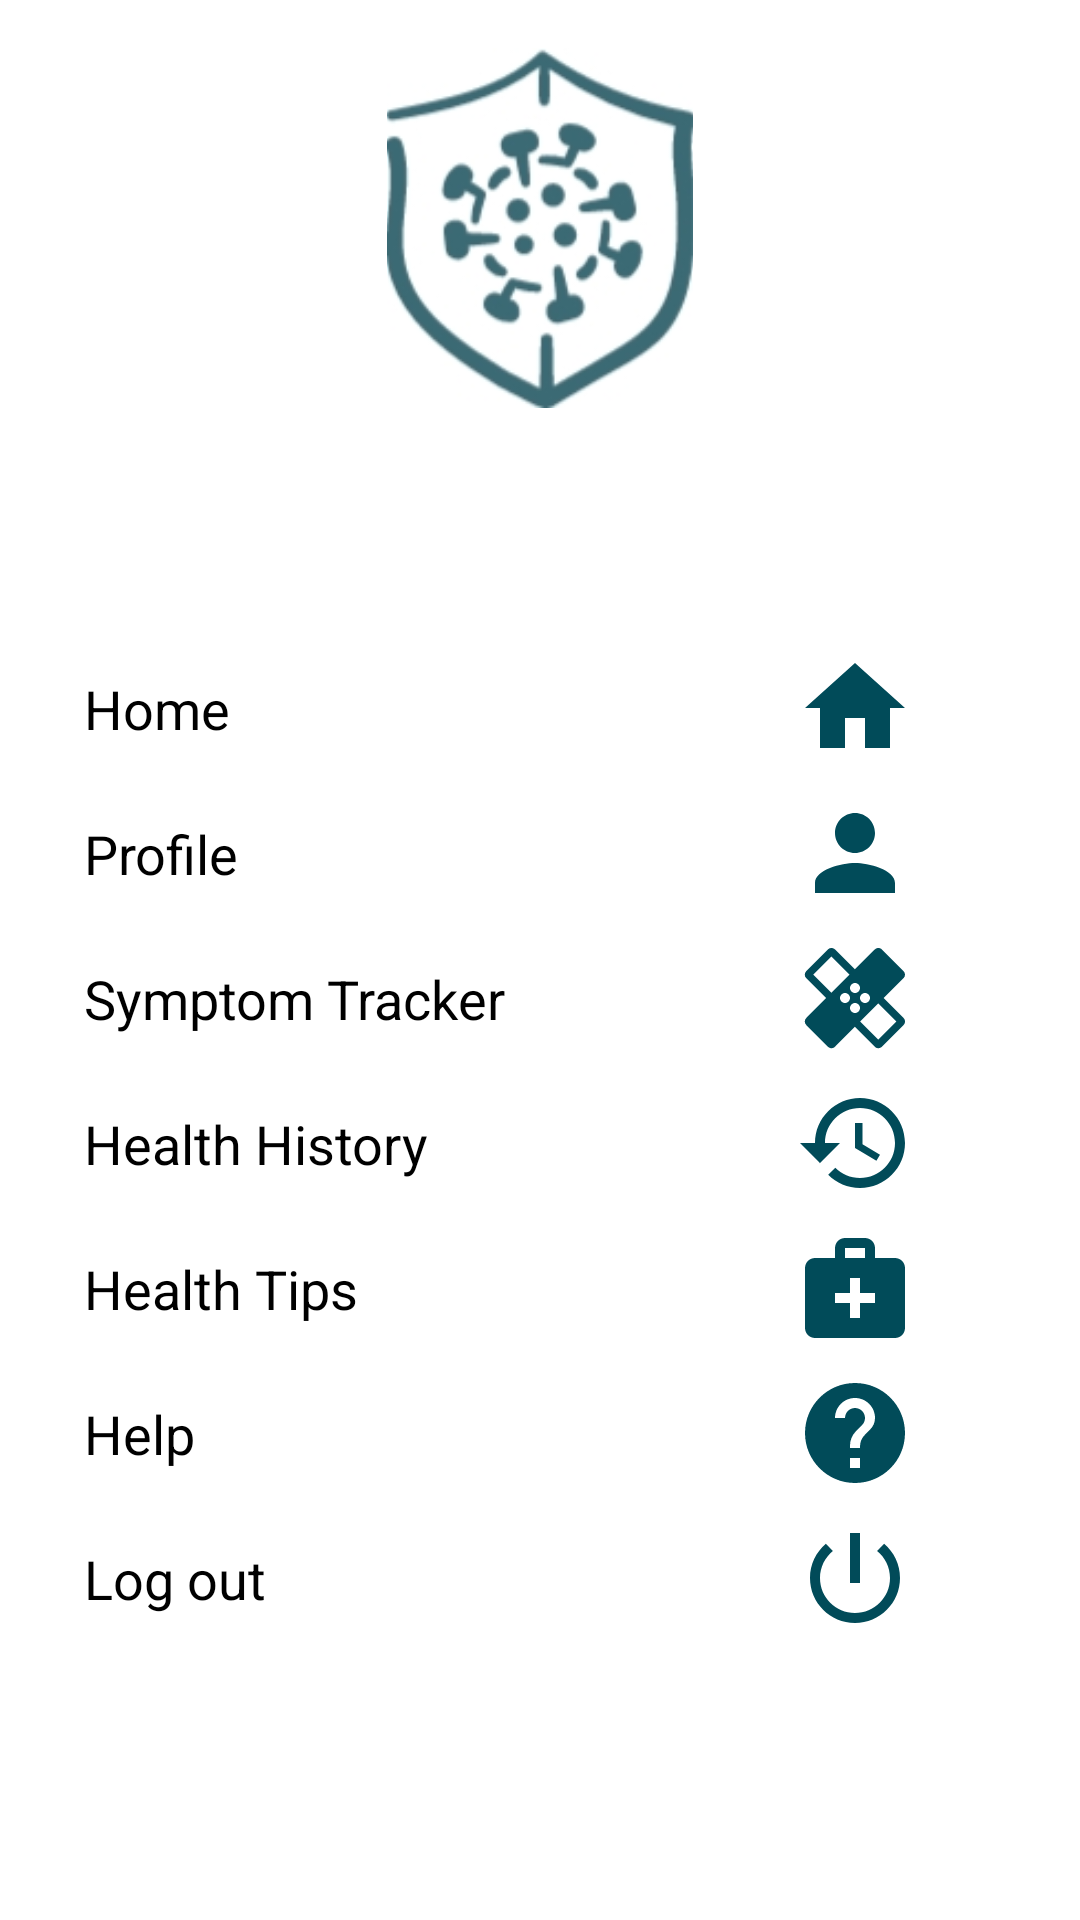

Where to tap for icons on this 1080px x 1920px app screen, as (x=x, y=y):
healing: (x=854, y=998)
medical services: (x=855, y=1288)
person: (x=855, y=853)
power settings: (x=855, y=1578)
